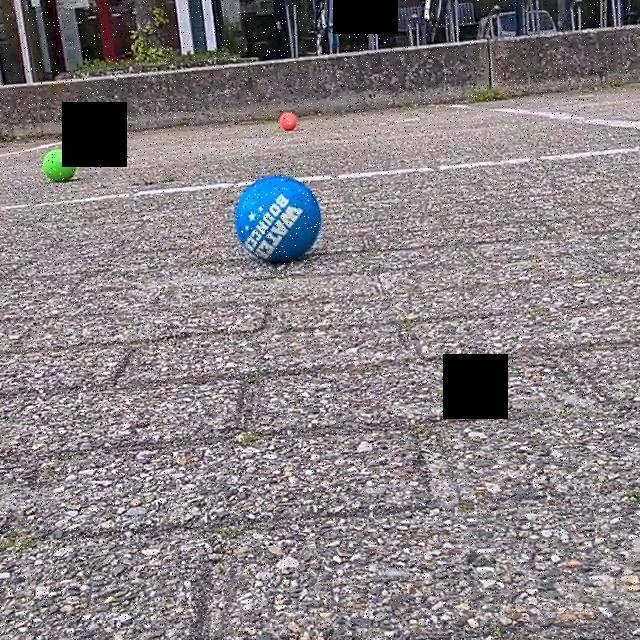ball: (40, 145, 79, 188), (275, 107, 299, 133)
